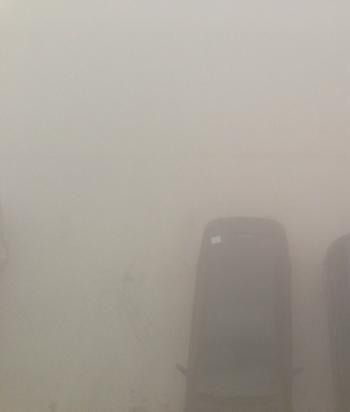car: (175, 207, 312, 411)
